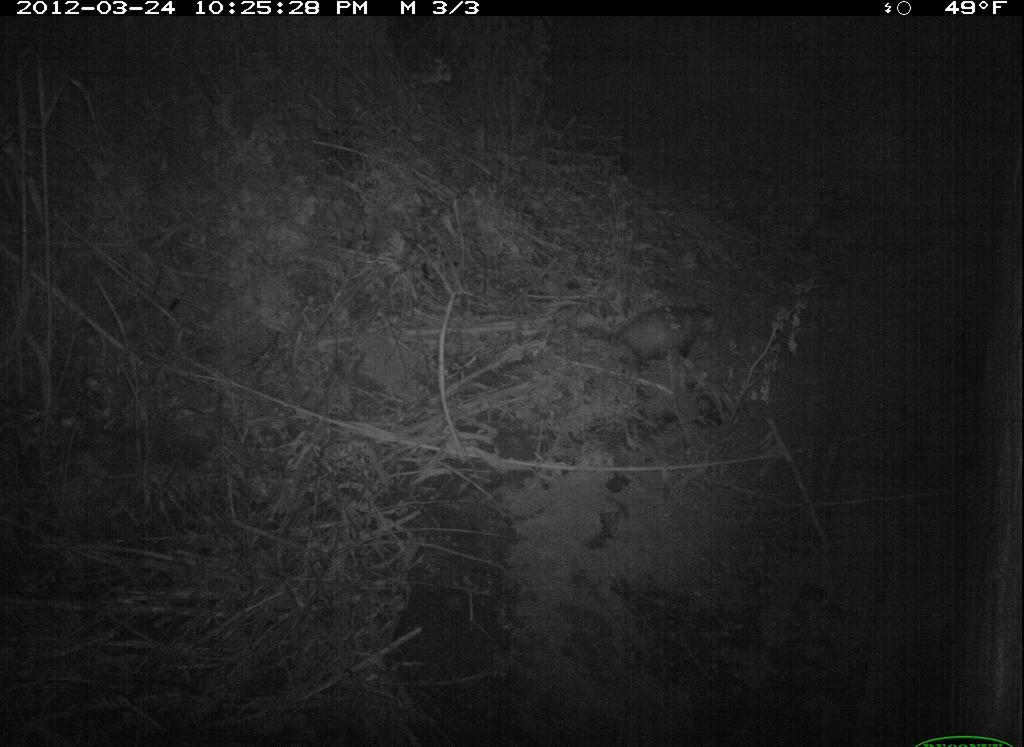opossum: (579, 299, 728, 378)
